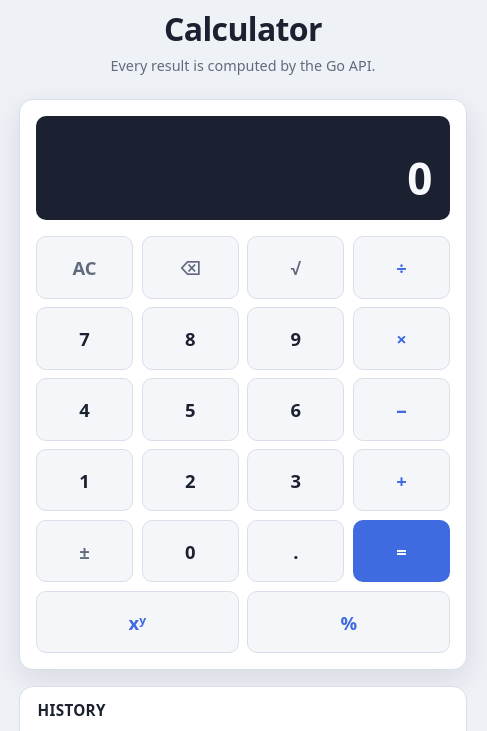
error handling › announces a failed calculation
Click the button "1".
click(84, 480)  # box x1=36 y1=449 x2=133 y2=512
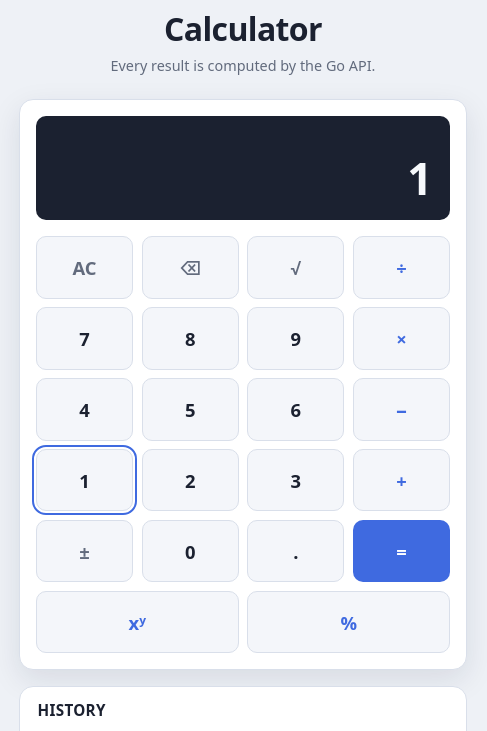
Click the button "0".
click(190, 551)  # box x1=142 y1=520 x2=239 y2=582
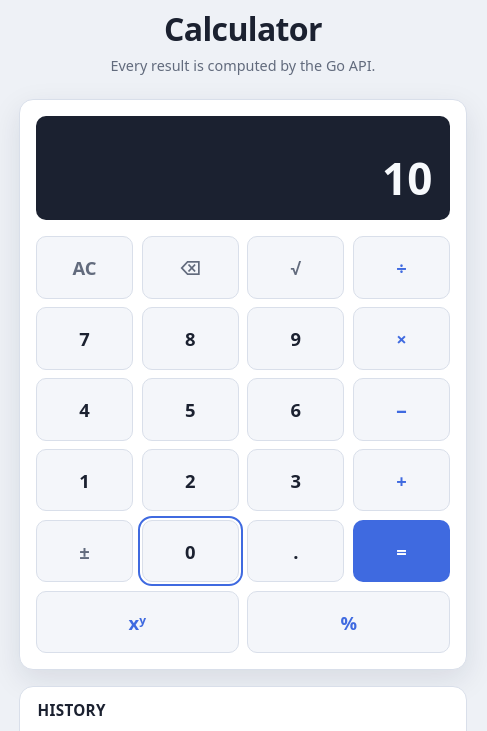
Click the button named "Divide".
click(402, 267)  # box x1=353 y1=236 x2=450 y2=298
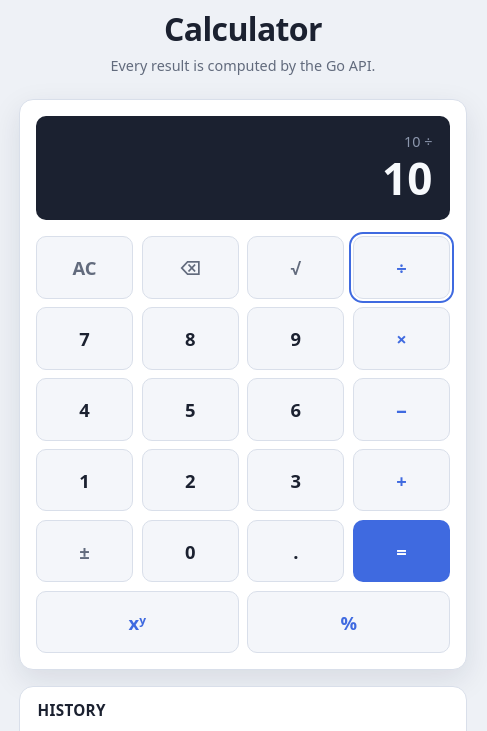
Click the button "0".
click(190, 551)  # box x1=142 y1=520 x2=239 y2=582
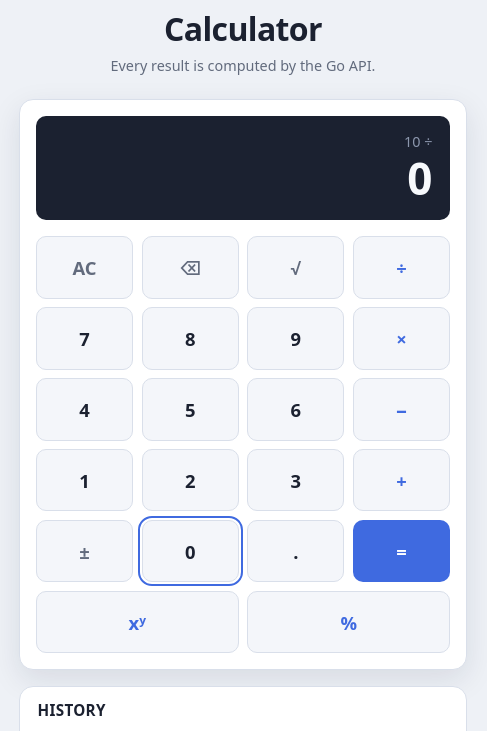
Click the button named "Equals".
click(402, 551)  # box x1=353 y1=520 x2=450 y2=582
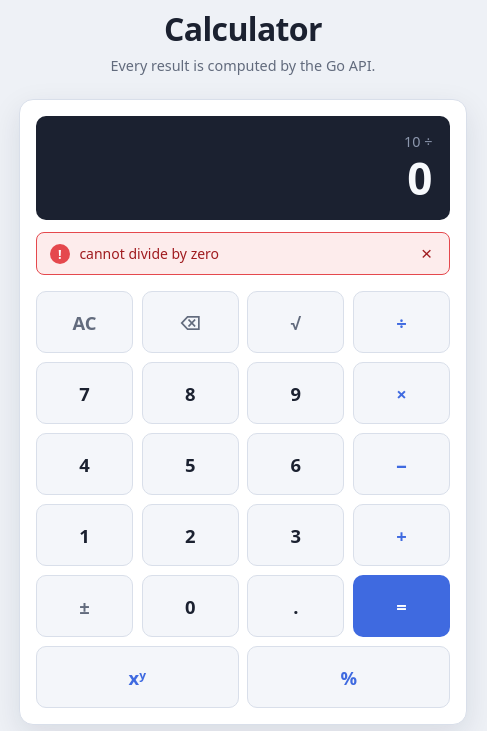
Expected: the message shows "cannot divide by zero", x1=79 y1=244 x2=219 y2=263
